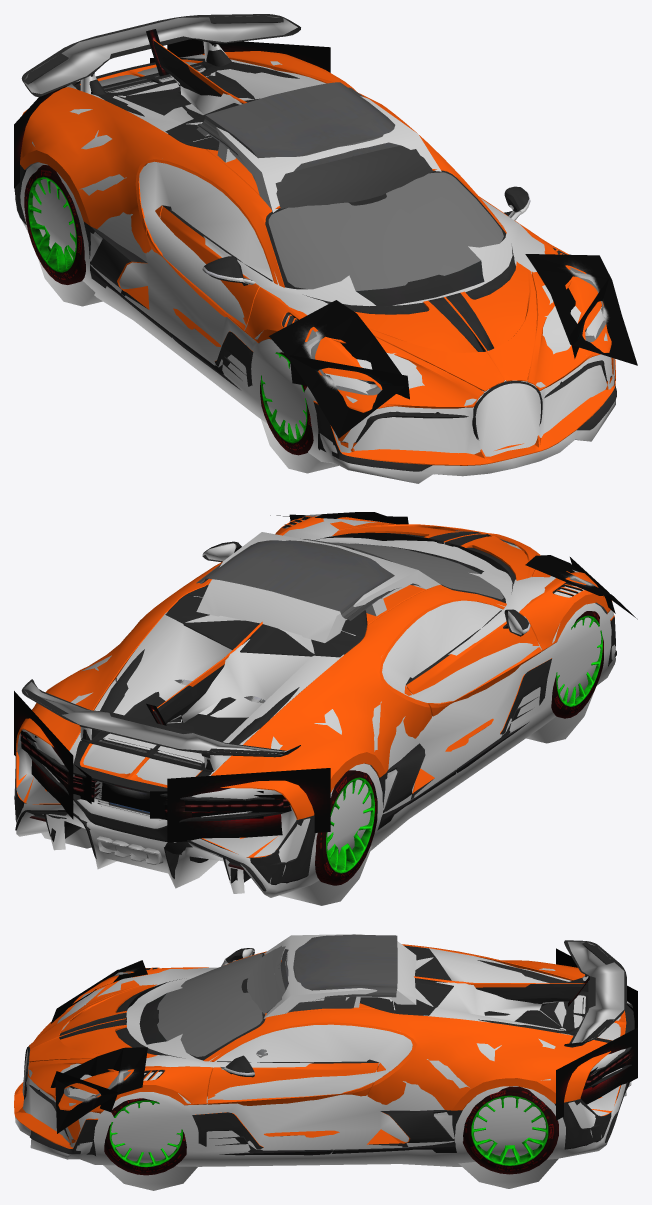
Rendered from P_car-025_Baylon.fbx.
3 views of the same model, one above another, from view 1: azimuth 30°, elevation 25°; view 2: azimuth 150°, elevation 25°; view 3: azimuth 270°, elevation 25° (orthographic). The views are drawn at different scales.
Parts seen in each view (by area): view 1: M_Car-025_ShadowForm_Baylon_01, M_Car-025_Body_Baylon_01, M_Car-025_Details_Baylon_01, M_Car-025_Glass_Baylon_01, M_Car-025_FrontFlares_Baylon_01, M_Car-Interior_Details_01, M_Car-Interior_Glass_01, M_Car-025_Body_Baylon_02, M_Car-Interior_Shadowform_01, M_Car-025_BackFlaresBrake_Baylon_01, M_CarWheel_003_AP_01 (×2), M_CaTire_003_AP_01; view 2: M_Car-025_ShadowForm_Baylon_01, M_Car-025_Body_Baylon_01, M_Car-025_Details_Baylon_01, M_Car-Interior_Details_01, M_Car-025_BackFlaresBrake_Baylon_01, M_Car-Interior_Shadowform_01, M_Car-025_BackFlares_Baylon_01, M_Car-025_Glass_Baylon_01, M_CarWheel_003_AP_01 (×2), M_Car-025_Body_Baylon_02, M_Car-025_FrontFlares_Baylon_01, M_CaTire_003_AP_02 (+2 smaller); view 3: M_Car-025_ShadowForm_Baylon_01, M_Car-025_Body_Baylon_01, M_Car-025_Details_Baylon_01, M_Car-025_Glass_Baylon_01, M_Car-Interior_Details_01, M_Car-025_FrontFlares_Baylon_01, M_CarWheel_003_AP_01 (×2), M_Car-Interior_Shadowform_01, M_Car-025_BackFlaresBrake_Baylon_01, M_Car-025_Body_Baylon_02, M_Car-Interior_Glass_01, M_CaTire_003_AP_01 (×2) (+2 smaller).
Part boxes in pixels (left/top/right/bottom): M_Car-025_ShadowForm_Baylon_01: left=16, top=15, right=615, bottom=483; M_Car-025_Body_Baylon_01: left=20, top=51, right=613, bottom=441; M_Car-025_Details_Baylon_01: left=14, top=14, right=616, bottom=471; M_Car-025_Glass_Baylon_01: left=268, top=172, right=503, bottom=381; M_Car-025_FrontFlares_Baylon_01: left=269, top=254, right=637, bottom=438; M_Car-Interior_Details_01: left=197, top=82, right=431, bottom=183; M_Car-Interior_Glass_01: left=275, top=145, right=433, bottom=208; M_Car-025_Body_Baylon_02: left=80, top=40, right=615, bottom=465; M_Car-Interior_Shadowform_01: left=196, top=96, right=441, bottom=212; M_Car-025_BackFlaresBrake_Baylon_01: left=14, top=29, right=330, bottom=187; M_CarWheel_003_AP_01 (×2): left=24, top=165, right=313, bottom=455; M_CaTire_003_AP_01: left=28, top=176, right=60, bottom=271; M_Car-025_ShadowForm_Baylon_01: left=14, top=518, right=615, bottom=905; M_Car-025_Body_Baylon_01: left=16, top=516, right=612, bottom=819; M_Car-025_Details_Baylon_01: left=14, top=515, right=616, bottom=891; M_Car-Interior_Details_01: left=196, top=539, right=419, bottom=620; M_Car-025_BackFlaresBrake_Baylon_01: left=14, top=691, right=330, bottom=842; M_Car-Interior_Shadowform_01: left=196, top=532, right=440, bottom=642; M_Car-025_BackFlares_Baylon_01: left=20, top=730, right=291, bottom=819; M_Car-025_Glass_Baylon_01: left=329, top=542, right=503, bottom=599; M_CarWheel_003_AP_01 (×2): left=315, top=611, right=603, bottom=885; M_Car-025_Body_Baylon_02: left=16, top=519, right=614, bottom=857; M_Car-025_FrontFlares_Baylon_01: left=270, top=512, right=637, bottom=619; M_CaTire_003_AP_02: left=346, top=777, right=374, bottom=865; M_Car-025_ShadowForm_Baylon_01: left=15, top=941, right=630, bottom=1190; M_Car-025_Body_Baylon_01: left=27, top=944, right=610, bottom=1140; M_Car-025_Details_Baylon_01: left=24, top=940, right=634, bottom=1155; M_Car-025_Glass_Baylon_01: left=75, top=953, right=262, bottom=1088; M_Car-Interior_Details_01: left=256, top=934, right=397, bottom=1054; M_Car-025_FrontFlares_Baylon_01: left=50, top=960, right=147, bottom=1133; M_CarWheel_003_AP_01 (×2): left=104, top=1086, right=558, bottom=1175; M_Car-Interior_Shadowform_01: left=256, top=934, right=416, bottom=1057; M_Car-025_BackFlaresBrake_Baylon_01: left=556, top=948, right=637, bottom=1120; M_Car-025_Body_Baylon_02: left=14, top=967, right=626, bottom=1148; M_Car-Interior_Glass_01: left=247, top=946, right=356, bottom=1013; M_CaTire_003_AP_01 (×2): left=109, top=1095, right=519, bottom=1167.
Size of the model in its own units: 2.34 by 1.54 by 4.84.
